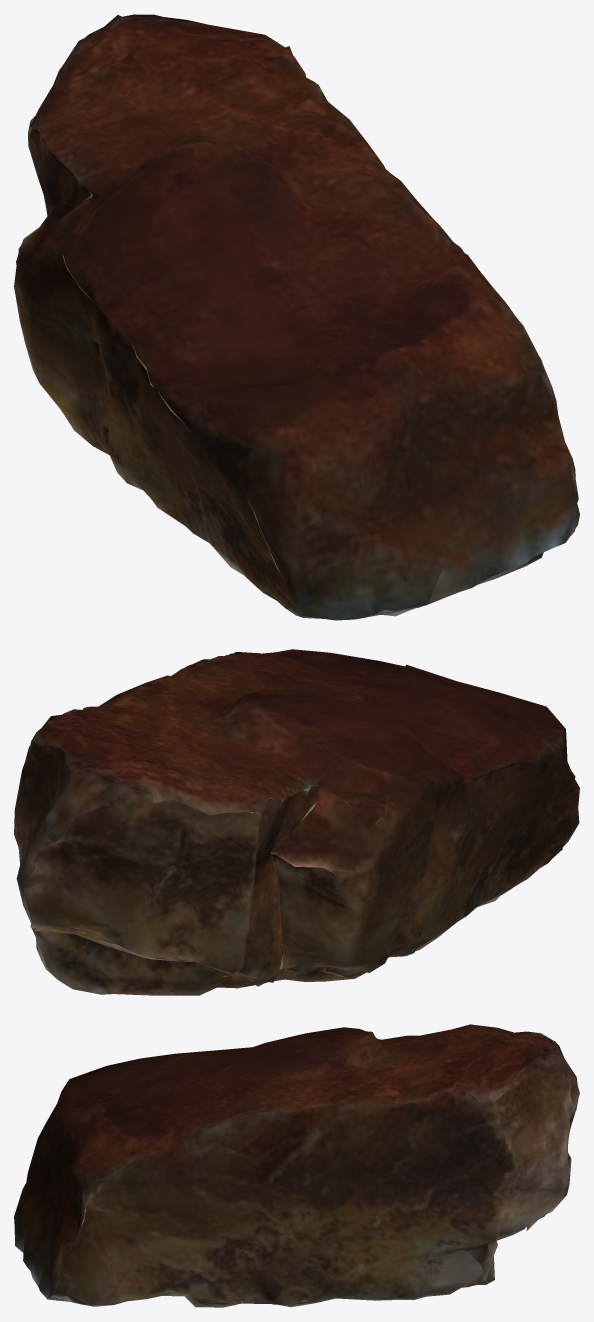
Rendered from pedra_rio_a.glb.
The picture shows the model from 3 angles, top to bottom: view 1: azimuth 30°, elevation 25°; view 2: azimuth 150°, elevation 25°; view 3: azimuth 270°, elevation 25°; orthographic projection. The views are drawn at different scales.
Visible parts, largest first — view 1: pedra_rio_a; view 2: pedra_rio_a; view 3: pedra_rio_a.
Boxes of the visible parts, x1=… form: pedra_rio_a: x1=14, y1=14, x2=579, y2=620; pedra_rio_a: x1=14, y1=649, x2=579, y2=995; pedra_rio_a: x1=14, y1=1024, x2=579, y2=1307.
Bounding box in the file's own units: 0.1681 × 0.1429 × 0.3205.
1 material, 1 textured.
